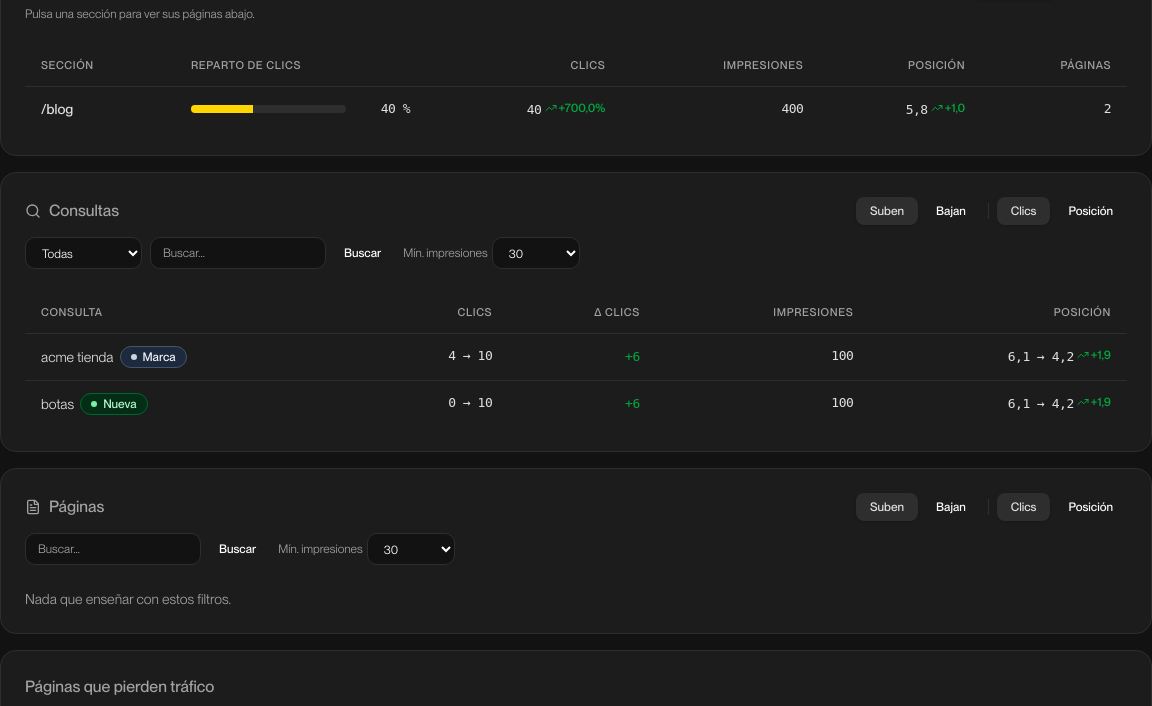
Test: SeoControlTab history and URL groups › says the older months are still importing
(page scrolled)
Click the button "acme tienda" at x=77, y=357, box top-left (41, 347), bottom-right (114, 367)
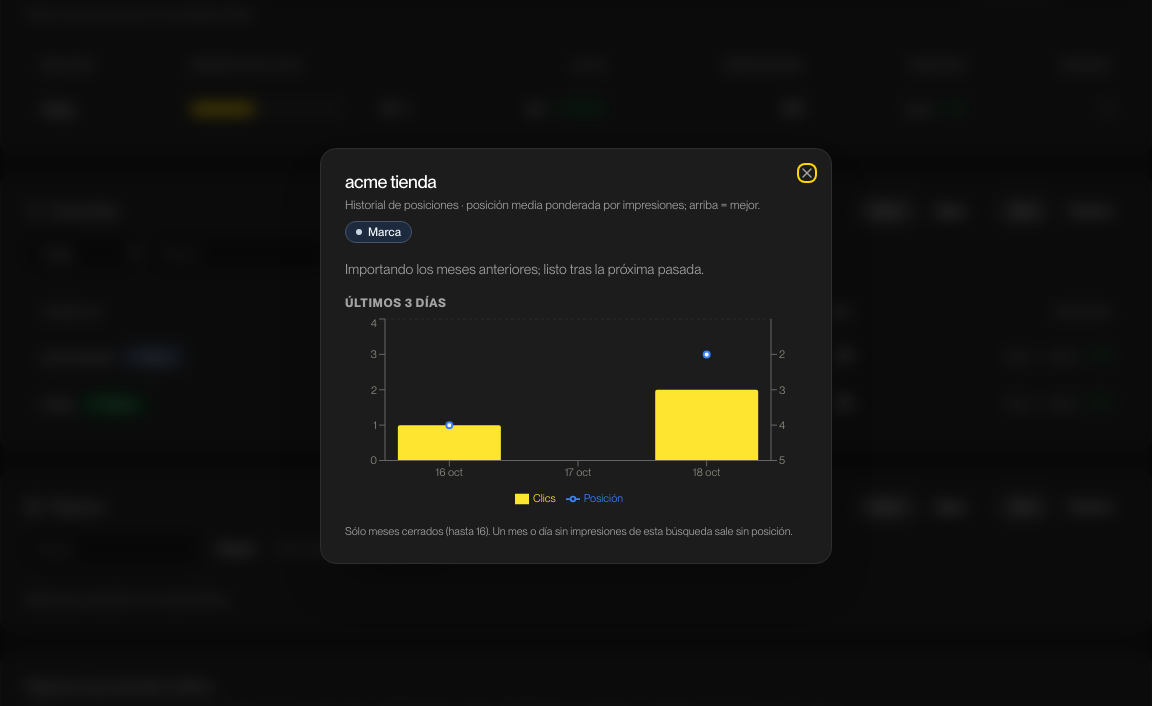
Check: the text "Importando los meses anteriores; listo tras la próxima pasada." is shown, box top-left (345, 261), bottom-right (704, 277)
